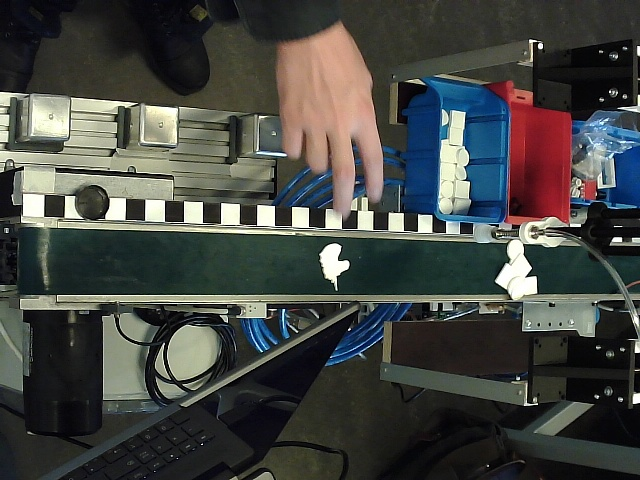unicorn: (319, 243, 351, 292)
